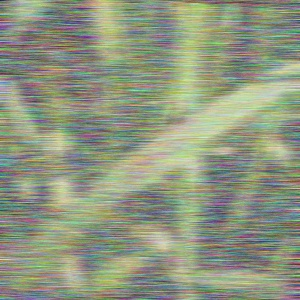Brown_Spot: (127, 163, 159, 192), (159, 145, 185, 167), (125, 149, 144, 172)
